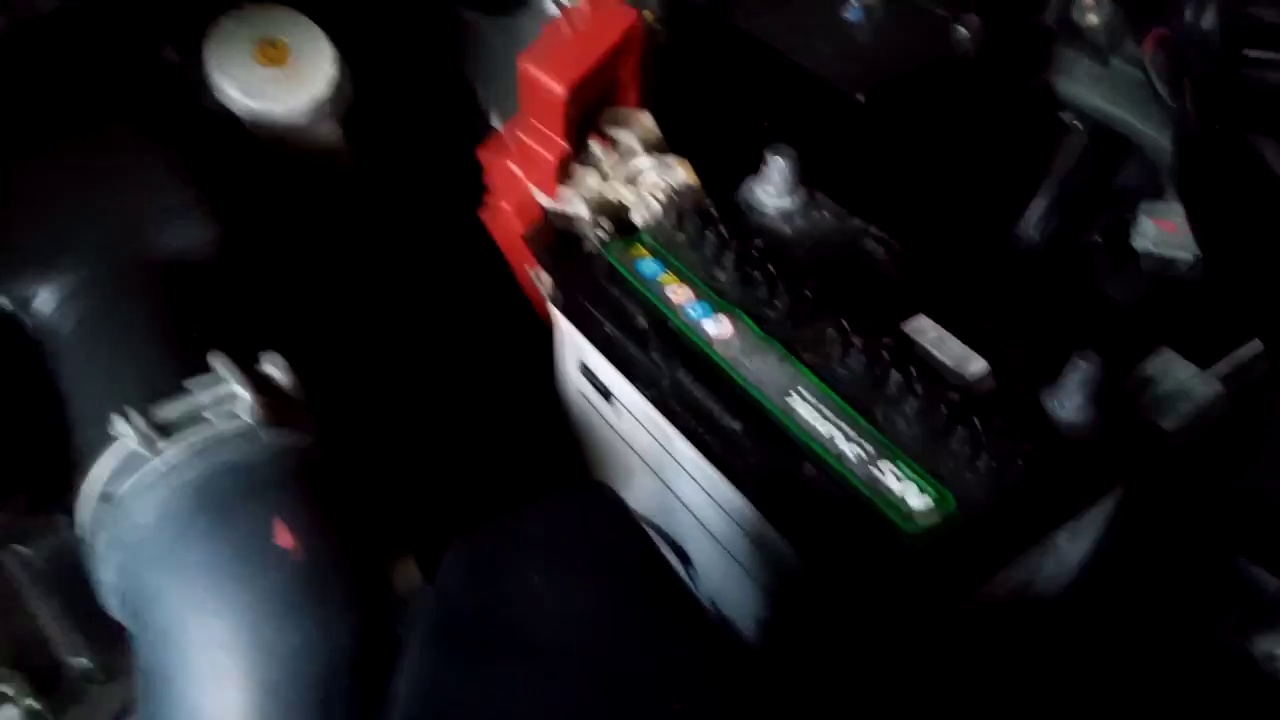battery: (567, 149, 1120, 576)
